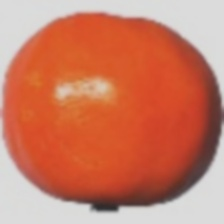tangerine: (15, 59, 168, 204)
